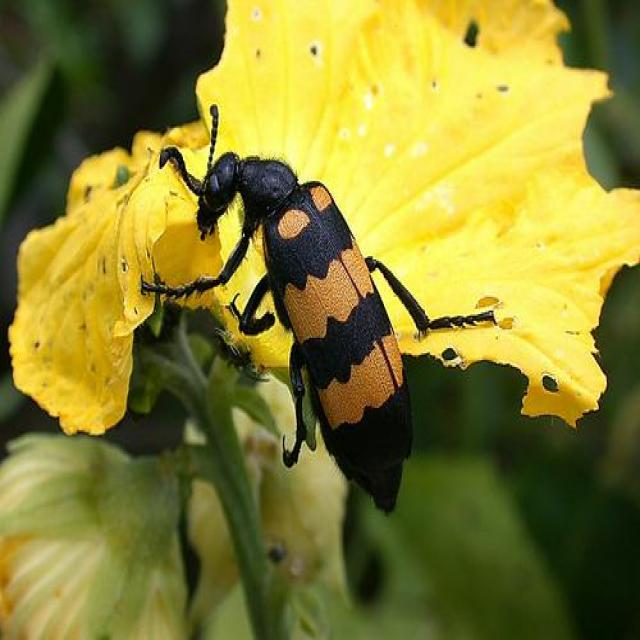BlisterBeetle-Adult-: (116, 90, 512, 534)
